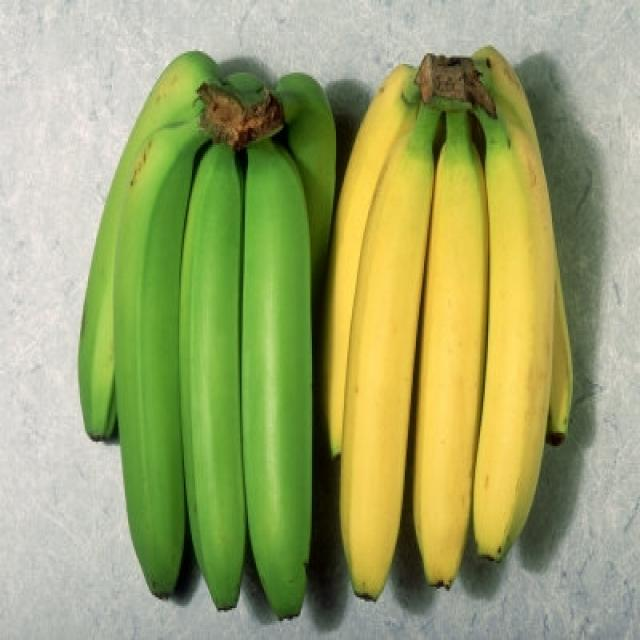Quả chuối: (332, 51, 584, 605)
